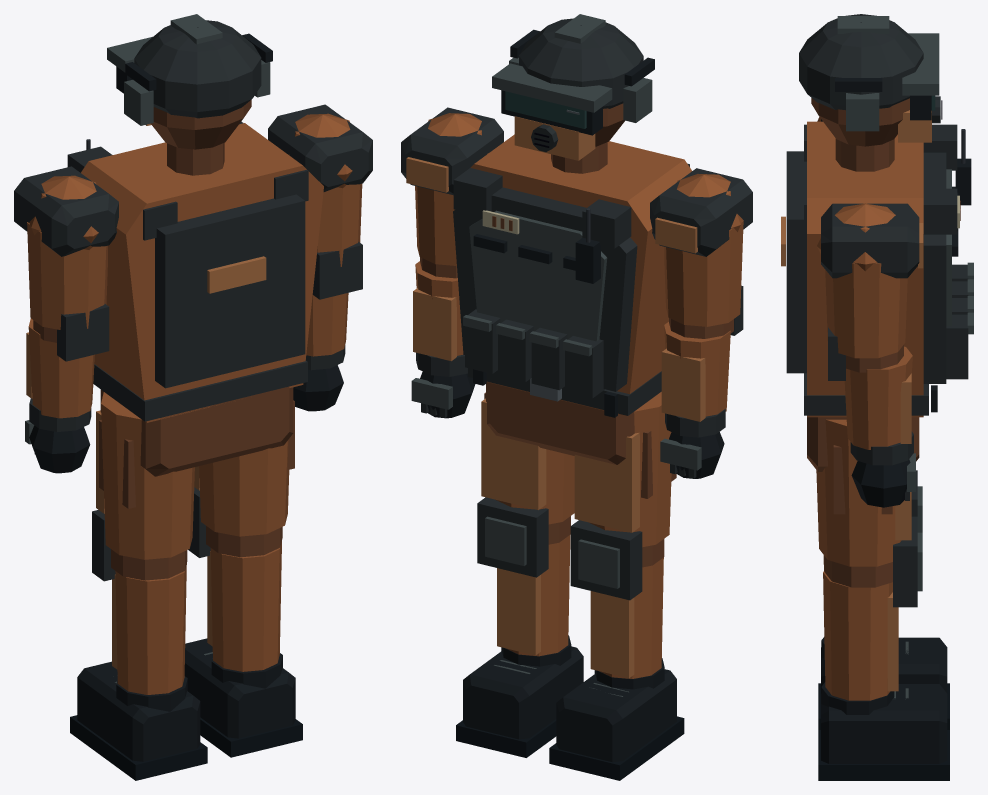
The model's file is training-bot.glb.
3 views of the same model, side by side, from view 1: azimuth 30°, elevation 25°; view 2: azimuth 150°, elevation 25°; view 3: azimuth 270°, elevation 25° (orthographic). The views are drawn at different scales.
Parts seen in each view (by area): view 1: torso_mesh, left_leg_mesh, right_leg_mesh, left_arm_mesh, head_mesh, right_arm_mesh; view 2: torso_mesh, left_leg_mesh, right_leg_mesh, left_arm_mesh, head_mesh, right_arm_mesh; view 3: torso_mesh, right_leg_mesh, right_arm_mesh, head_mesh, left_leg_mesh.
Boxes of the visible parts, x1,y1,x2,y2 form: torso_mesh: (67, 121, 323, 476); left_leg_mesh: (70, 392, 207, 780); right_leg_mesh: (184, 400, 302, 757); left_arm_mesh: (14, 166, 118, 473); head_mesh: (107, 14, 272, 175); right_arm_mesh: (268, 104, 372, 411); torso_mesh: (453, 134, 691, 464); left_leg_mesh: (549, 392, 684, 780); right_leg_mesh: (456, 392, 583, 757); left_arm_mesh: (650, 168, 752, 478); head_mesh: (492, 14, 654, 173); right_arm_mesh: (401, 107, 503, 418); torso_mesh: (781, 121, 973, 471); right_leg_mesh: (816, 419, 949, 780); right_arm_mesh: (817, 203, 923, 507); head_mesh: (799, 14, 942, 171); left_leg_mesh: (818, 470, 949, 729).
Bounding box in the file's own units: 0.864 × 1.8 × 0.4385.
